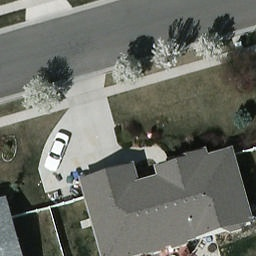car: (41, 129, 71, 175)
